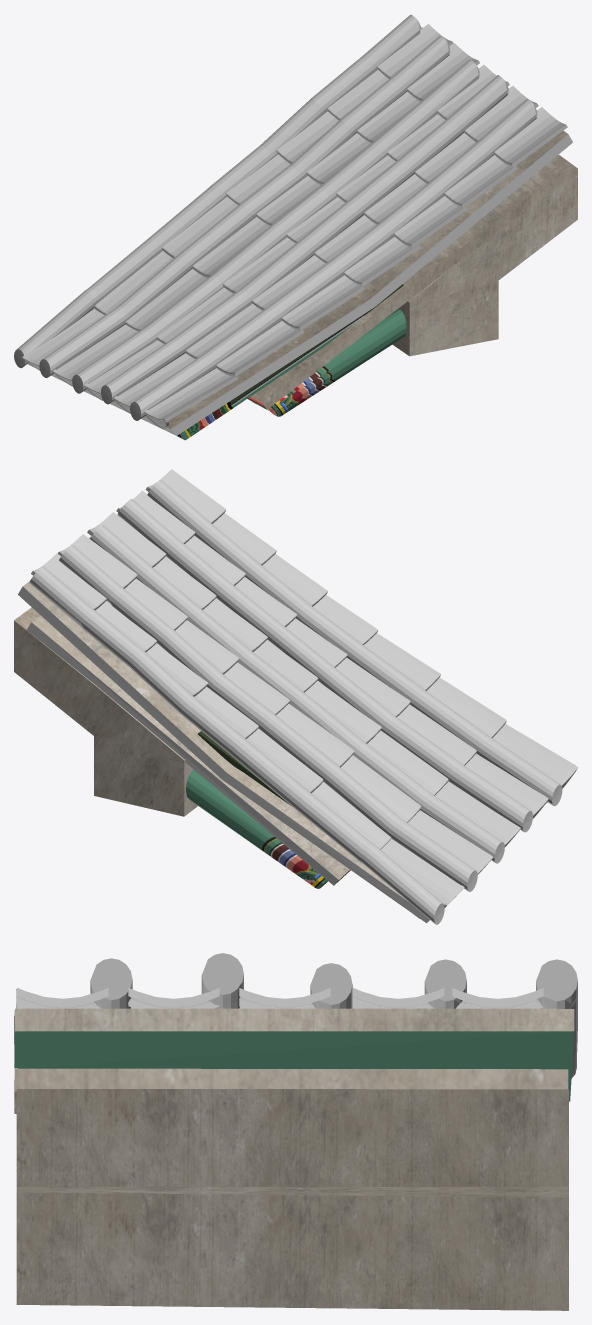
Rendered from SM_Roof_5.fbx.
3 renders of one model, top to bottom at view 1: azimuth 30°, elevation 25°; view 2: azimuth 150°, elevation 25°; view 3: azimuth 270°, elevation 25°, orthographic. The views are drawn at different scales.
Visible parts, largest first — view 1: SM_Roof_5; view 2: SM_Roof_5; view 3: SM_Roof_5.
Part boxes in pixels (bbox=[...]): SM_Roof_5: bbox=[14, 14, 577, 440]; SM_Roof_5: bbox=[14, 469, 577, 924]; SM_Roof_5: bbox=[14, 953, 577, 1310].
Size of the model in its own units: 432 by 261 by 259.
